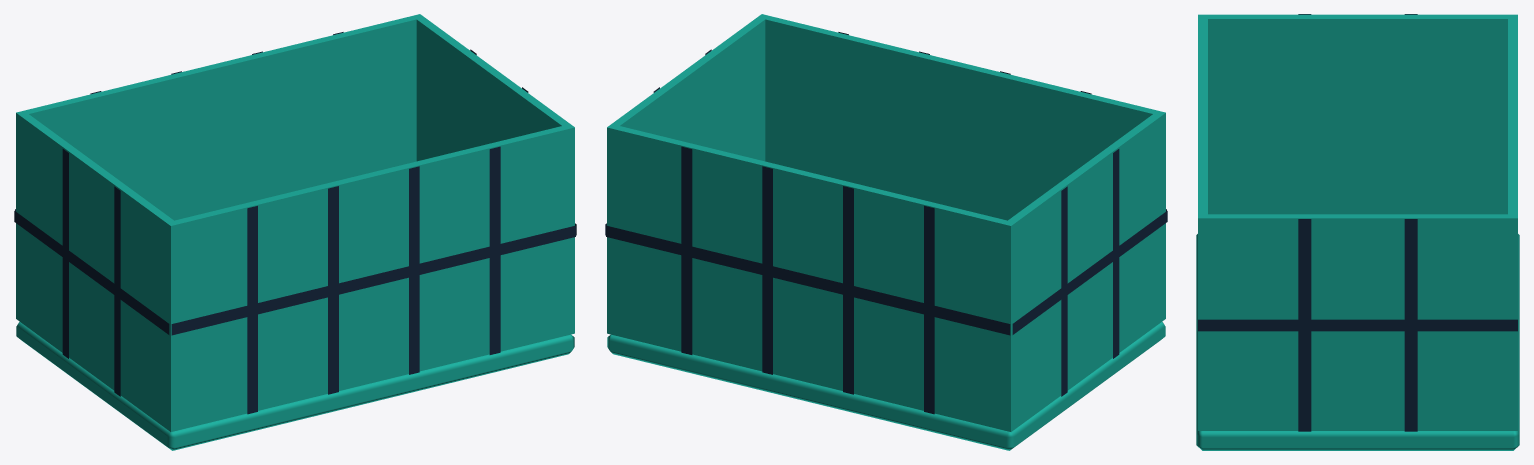
File: CM_Interior_DeliveryCrate.fbx
3 views of the same model, side by side, from view 1: azimuth 30°, elevation 25°; view 2: azimuth 150°, elevation 25°; view 3: azimuth 270°, elevation 25° (orthographic). The views are drawn at different scales.
Parts seen in each view (by area): view 1: Body; view 2: Body; view 3: Body.
Boxes of the visible parts, left/top/right/bottom form: Body: left=14, top=14, right=576, bottom=450; Body: left=605, top=14, right=1167, bottom=450; Body: left=1196, top=14, right=1519, bottom=450.
Size of the model in its own units: 3 by 2 by 1.6.
Materials: 1 (1 with a texture image).
